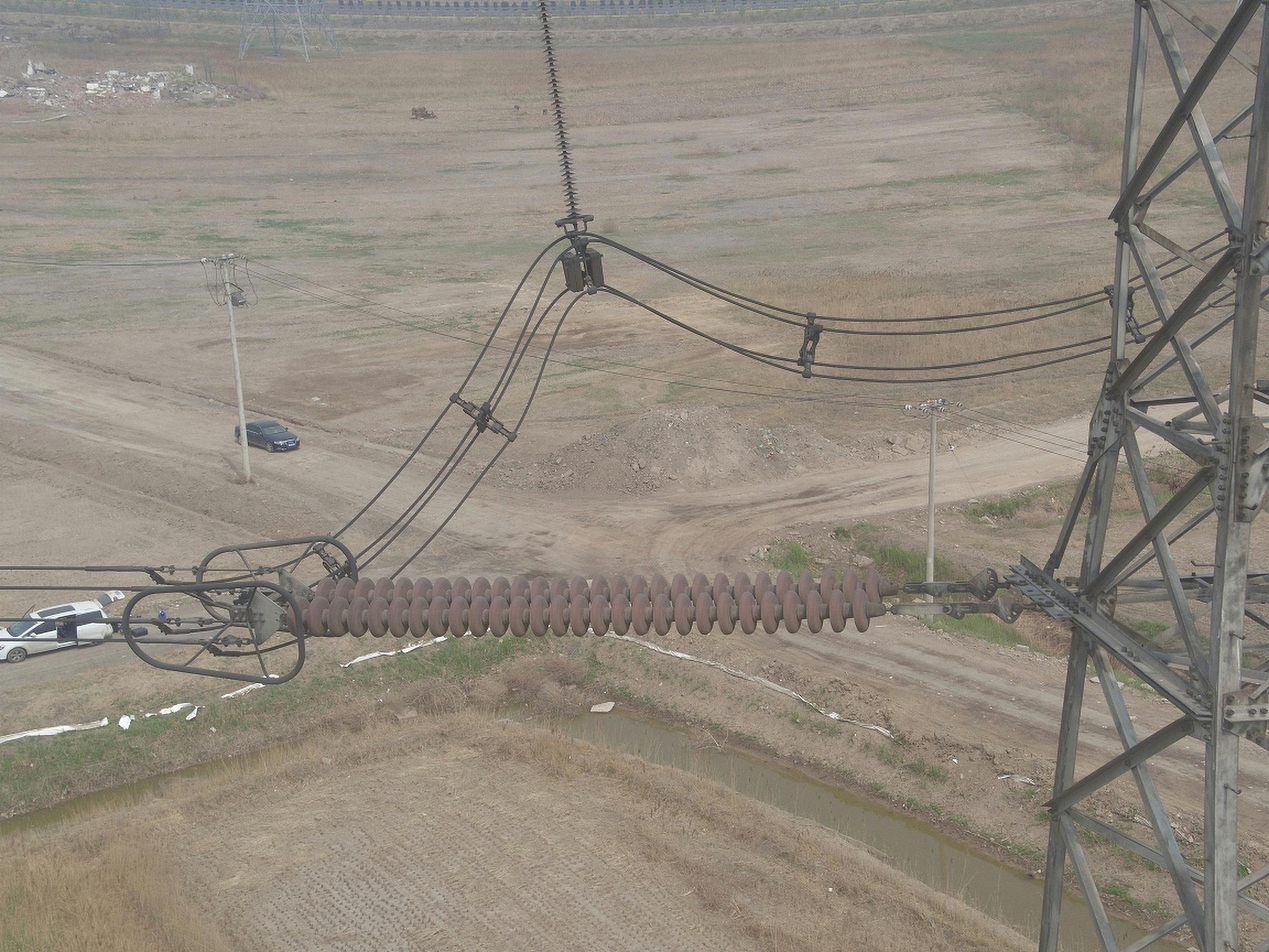insulator: (282, 564, 887, 642), (532, 1, 583, 217)
